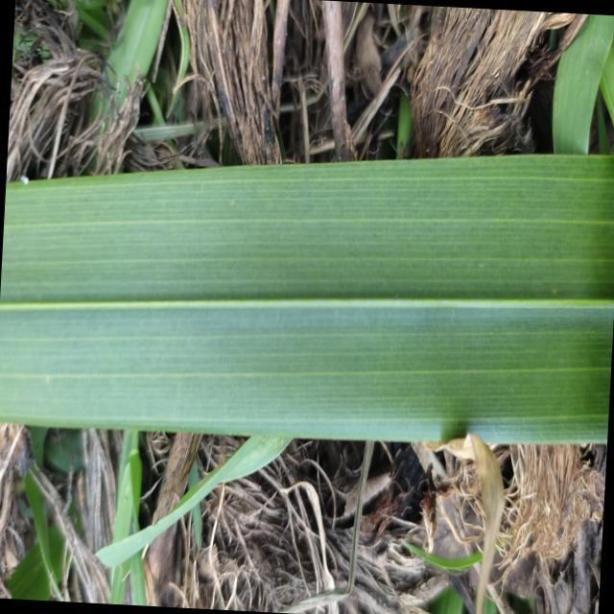Healthy: (1, 148, 614, 447)
